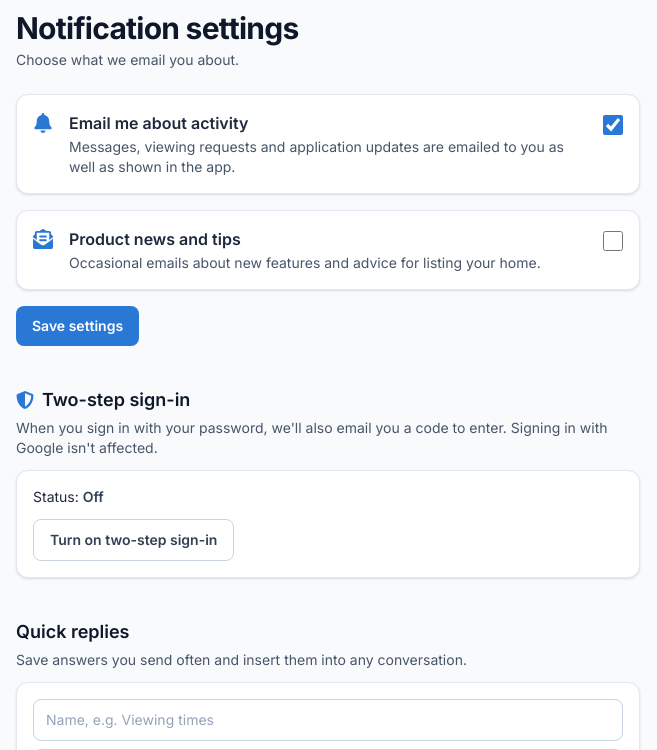
Test case: Settings page › saves a changed preference
Click the checkbox labelled "Email me about activity".
click(613, 125)  # box [603,115,623,135]
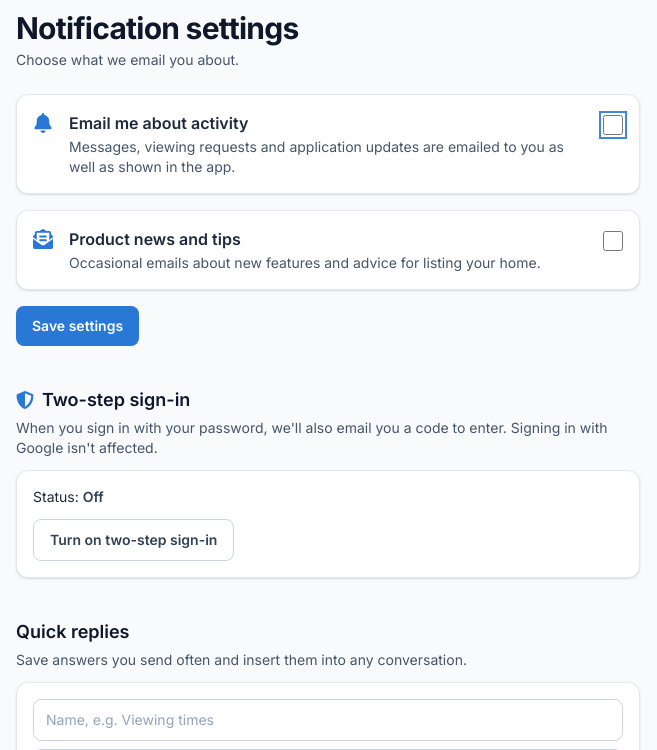
Click the button "Save settings".
click(78, 326)  # box [16,306,139,346]
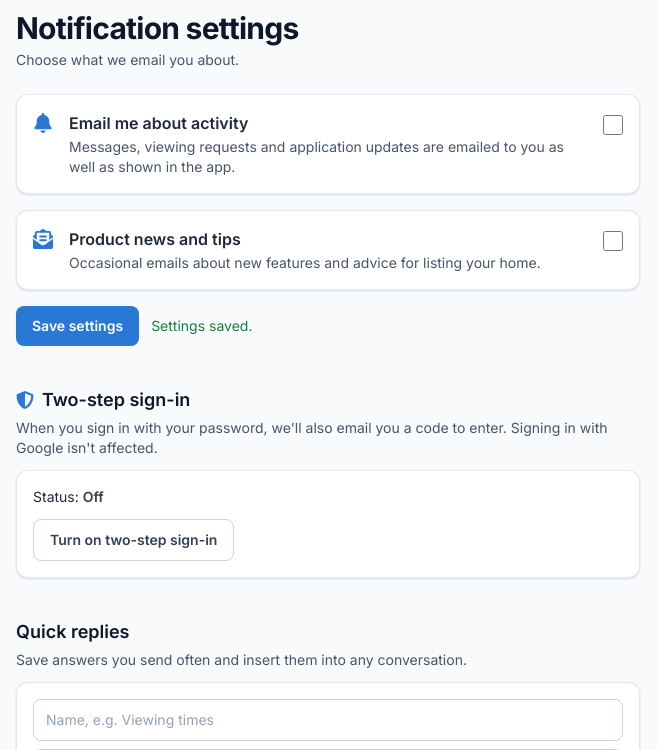
Expected: the text "Settings saved." is shown, [151,316,252,336]
